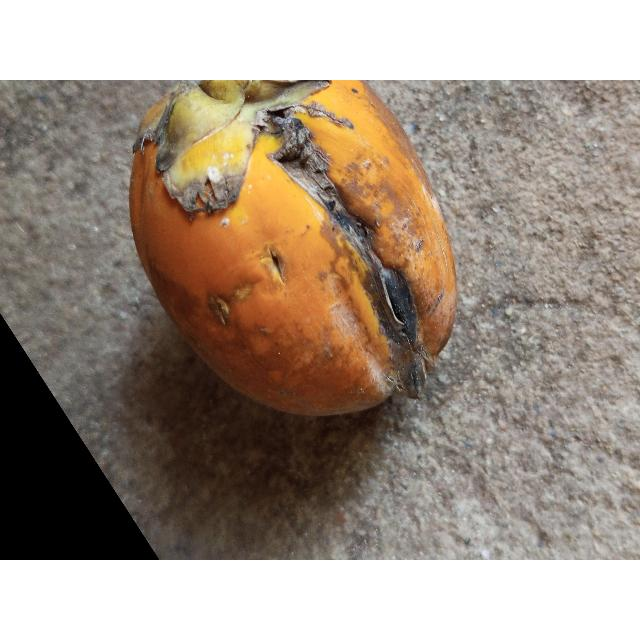damaged: (128, 80, 459, 419)
